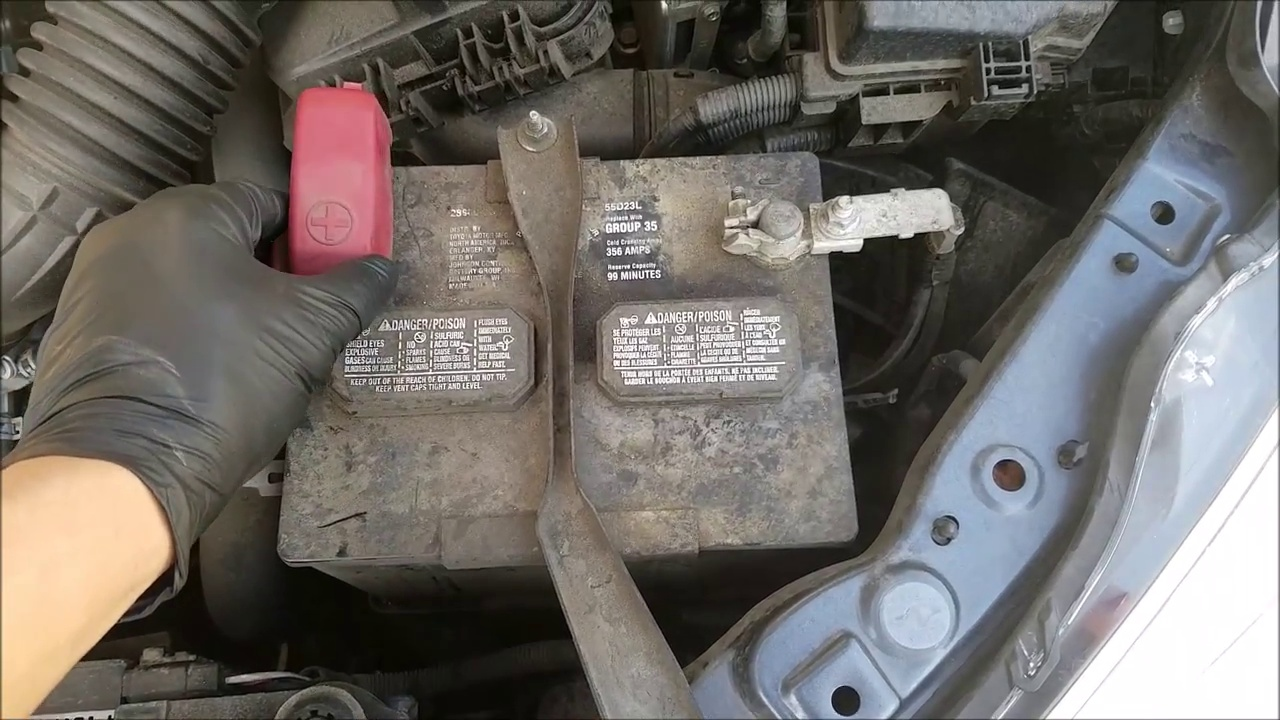battery: (256, 87, 864, 553)
neg_connected: (712, 142, 946, 289)
pos_touched: (193, 86, 427, 382)
